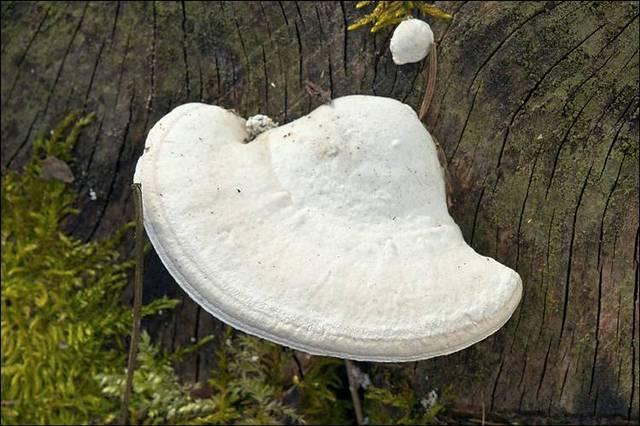Non-edible Mushroom: (131, 1, 523, 362)
